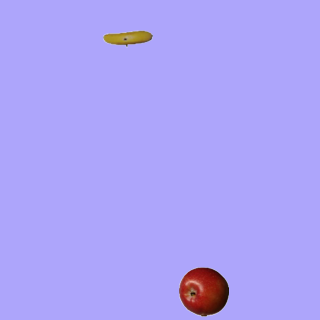Apple Braeburn: (178, 266, 228, 316)
Banana: (102, 13, 152, 63)
